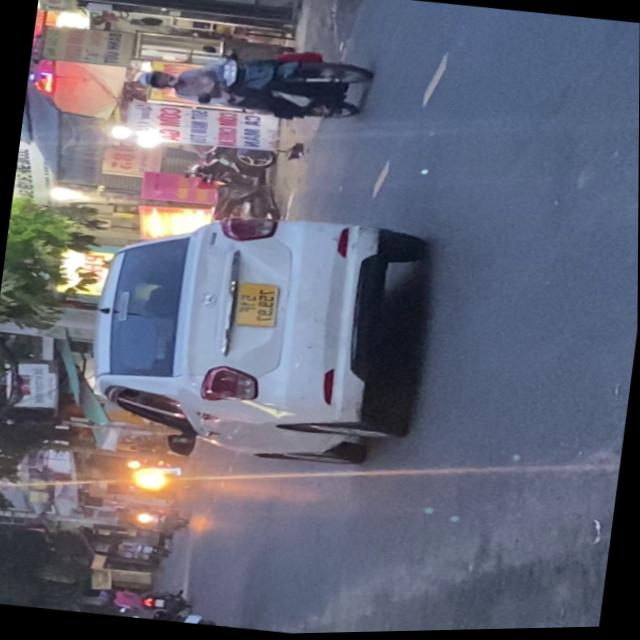helmet: (133, 66, 176, 92)
licenseplate: (128, 28, 373, 133)
